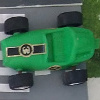carro: (3, 12, 97, 88)
